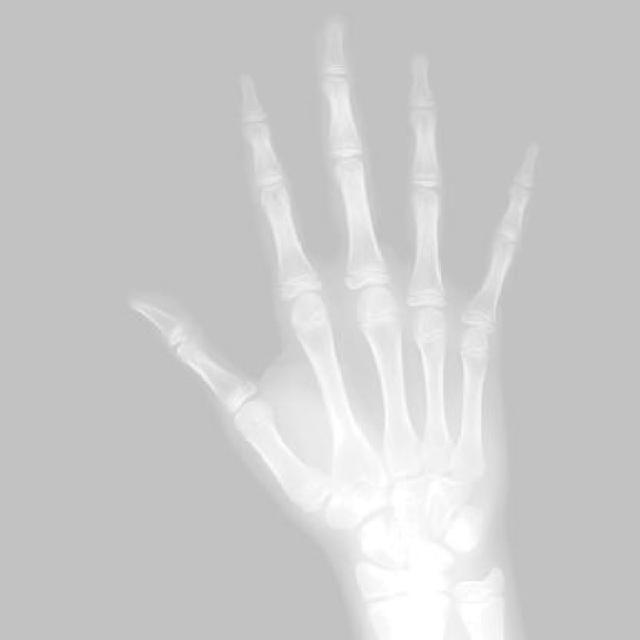Fracture: (288, 463, 327, 503)
